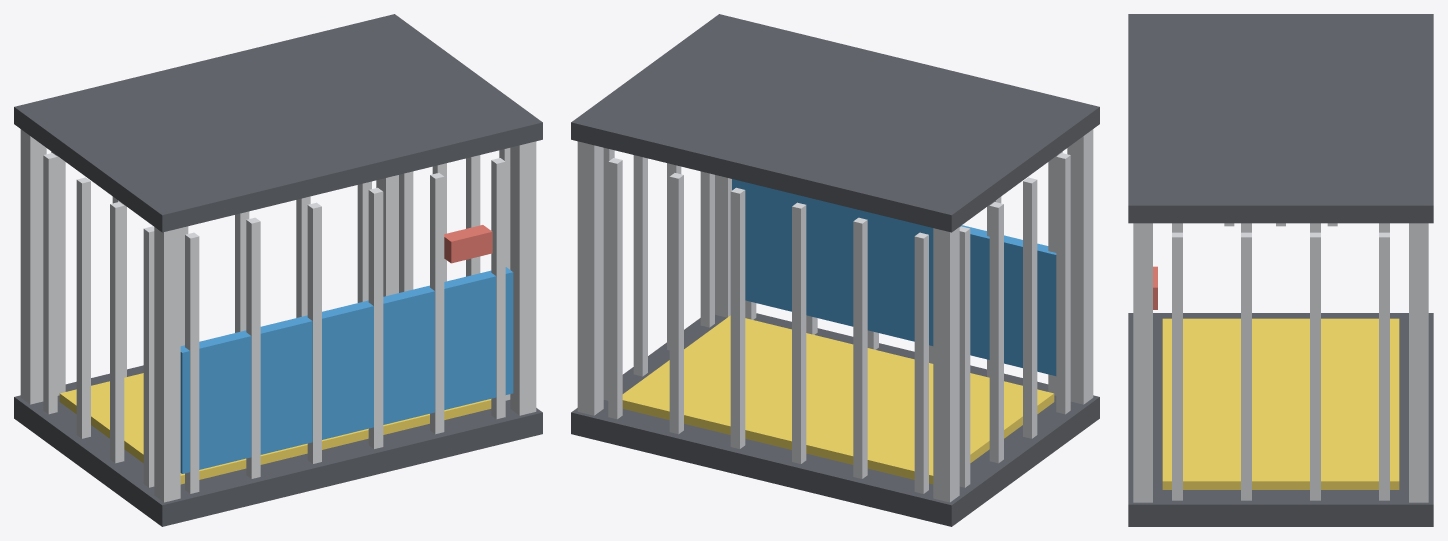
Rendered from dog-agility-and-training-field-dog-crate-4a7b0539__35609.glb.
3 renders of one model, left to right at view 1: azimuth 30°, elevation 25°; view 2: azimuth 150°, elevation 25°; view 3: azimuth 270°, elevation 25°, orthographic. The views are drawn at different scales.
Parts seen in each view (by area): view 1: dog-crate-charcoal, dog-crate-steel, dog-crate-azure, dog-crate-sunflower, dog-crate-poppy; view 2: dog-crate-charcoal, dog-crate-steel, dog-crate-sunflower, dog-crate-azure; view 3: dog-crate-charcoal, dog-crate-sunflower, dog-crate-steel.
Part boxes in pixels (left/top/right/bottom): dog-crate-charcoal: left=14, top=14, right=542, bottom=526; dog-crate-steel: left=20, top=129, right=536, bottom=502; dog-crate-azure: left=180, top=267, right=513, bottom=473; dog-crate-sunflower: left=59, top=373, right=491, bottom=484; dog-crate-poppy: left=444, top=225, right=492, bottom=263; dog-crate-charcoal: left=571, top=14, right=1099, bottom=526; dog-crate-steel: left=577, top=129, right=1093, bottom=502; dog-crate-sunflower: left=622, top=315, right=1054, bottom=484; dog-crate-azure: left=732, top=179, right=1056, bottom=375; dog-crate-charcoal: left=1128, top=14, right=1433, bottom=526; dog-crate-sunflower: left=1162, top=318, right=1399, bottom=489; dog-crate-steel: left=1133, top=223, right=1428, bottom=502.
Size of the model in its own units: 0.92 by 0.72 by 0.62.
